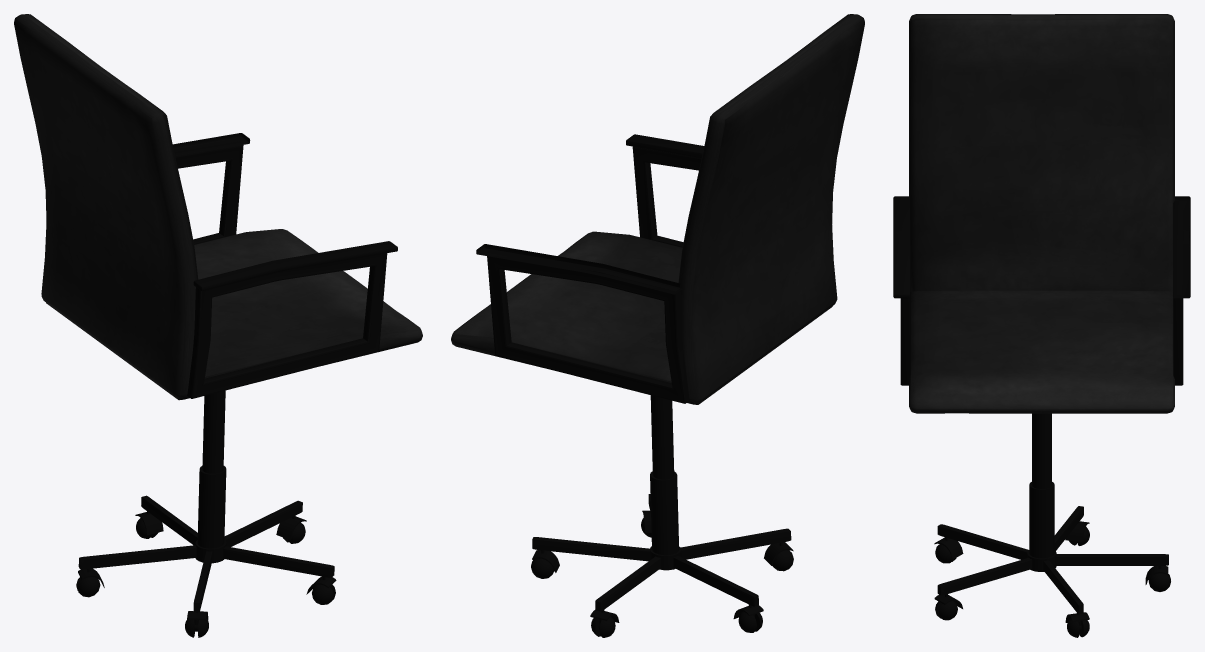
Rendered from chaise_classique.glb.
3 renders of one model, left to right at view 1: azimuth 30°, elevation 25°; view 2: azimuth 150°, elevation 25°; view 3: azimuth 270°, elevation 25°, orthographic. The views are drawn at different scales.
Parts seen in each view (by area): view 1: Cube.001_4, Cube.004_0, Cube.003_1, Cylinder.001_3; view 2: Cube.001_4, Cube.004_0, Cube.003_1, Cylinder.001_3; view 3: Cube.001_4, Cube.003_1, Cube.004_0, Cylinder.001_3.
Part boxes in pixels (bbox=[...]): Cube.001_4: bbox=[14, 14, 422, 400]; Cube.004_0: bbox=[172, 133, 397, 398]; Cube.003_1: bbox=[76, 495, 336, 637]; Cylinder.001_3: bbox=[195, 390, 226, 563]; Cube.001_4: bbox=[451, 14, 864, 404]; Cube.004_0: bbox=[476, 134, 704, 403]; Cube.003_1: bbox=[531, 494, 793, 637]; Cylinder.001_3: bbox=[650, 395, 681, 570]; Cube.001_4: bbox=[909, 14, 1174, 413]; Cube.003_1: bbox=[934, 506, 1170, 637]; Cube.004_0: bbox=[893, 196, 1190, 385]; Cylinder.001_3: bbox=[1027, 413, 1056, 571].
Bounding box in the file's own units: 0.6454 × 1.23 × 0.636.
7 materials, 1 textured.
